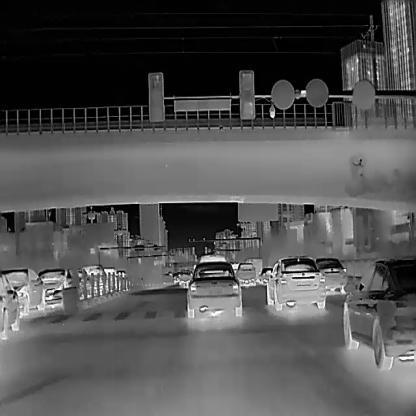car: (343, 256, 416, 370), (266, 255, 325, 310), (187, 261, 242, 318), (2, 268, 45, 315), (37, 267, 71, 308), (0, 271, 19, 339), (315, 256, 347, 292), (82, 264, 106, 294), (69, 266, 88, 300), (235, 263, 256, 286), (242, 258, 262, 280), (103, 267, 116, 293), (177, 269, 192, 286), (258, 267, 273, 283), (198, 254, 227, 262)
